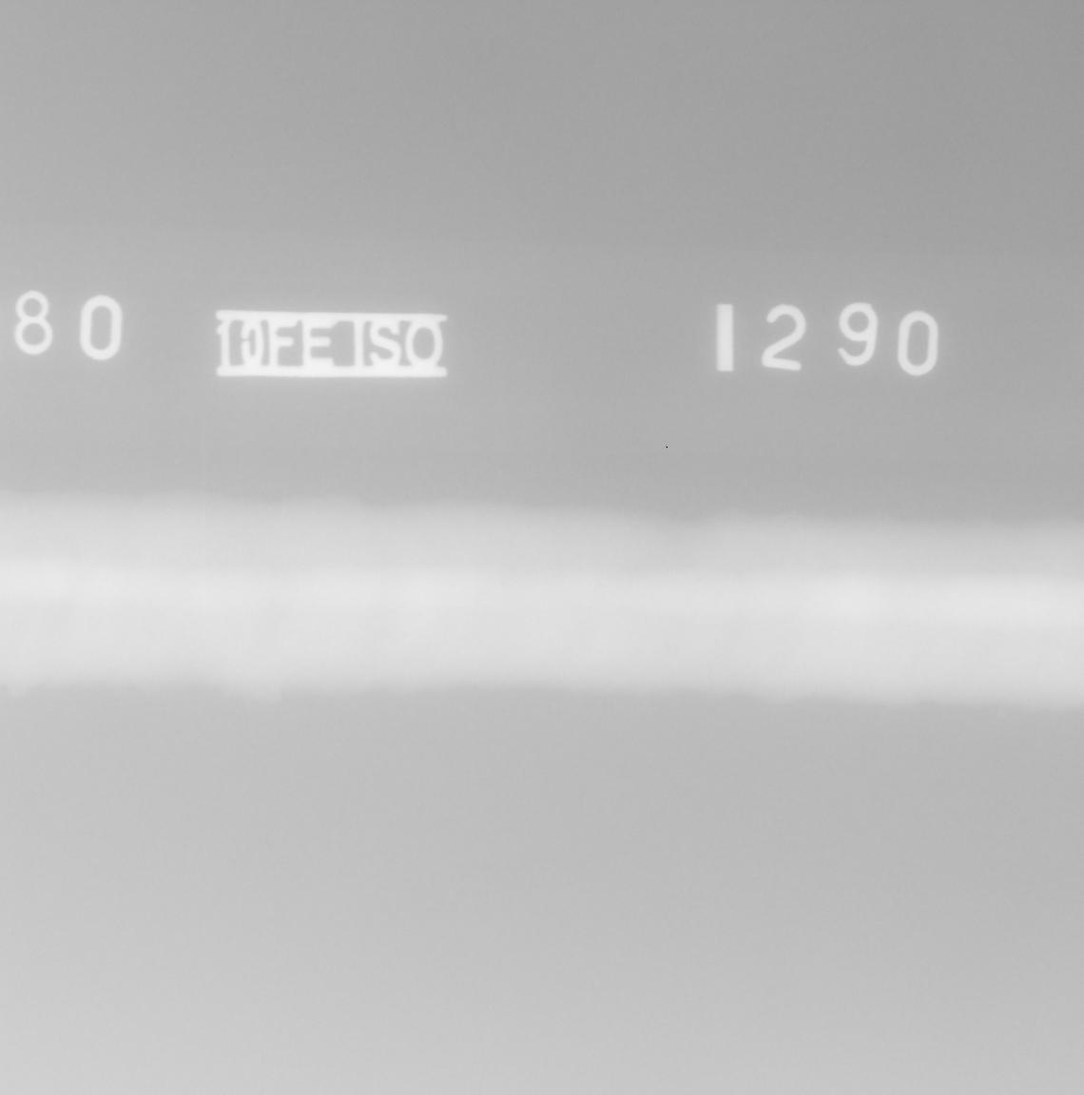Pore/Porosity: (500, 582, 505, 587)
